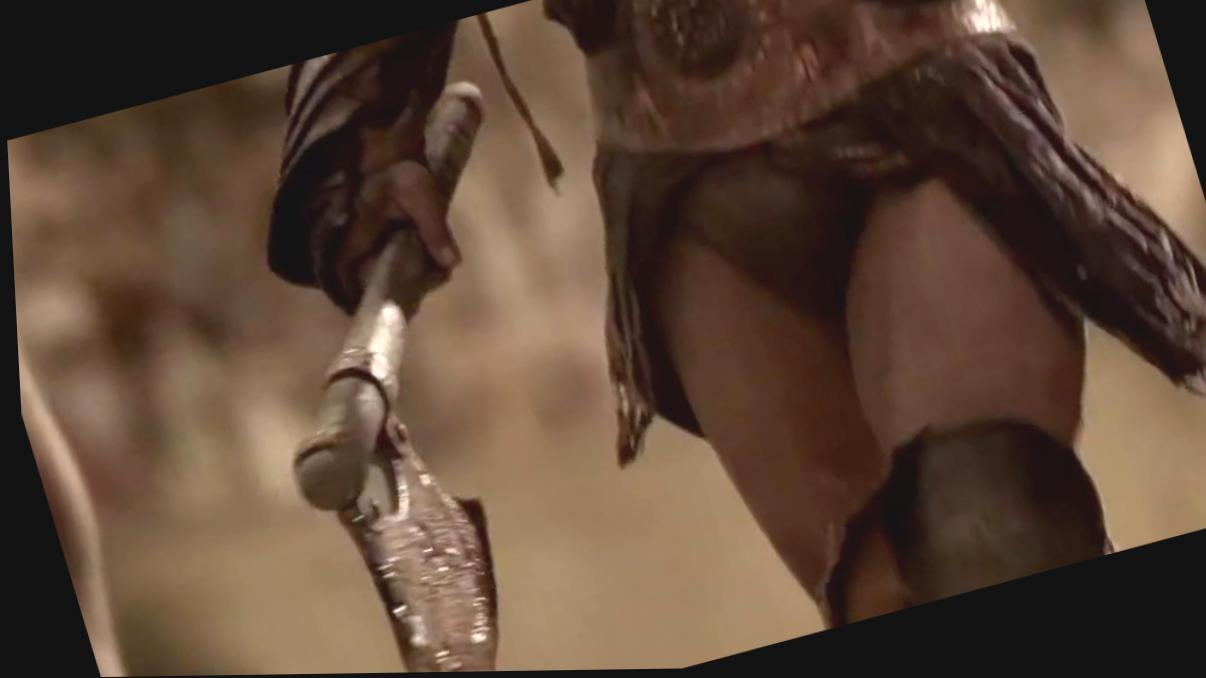Fire: (333, 414, 491, 674)
